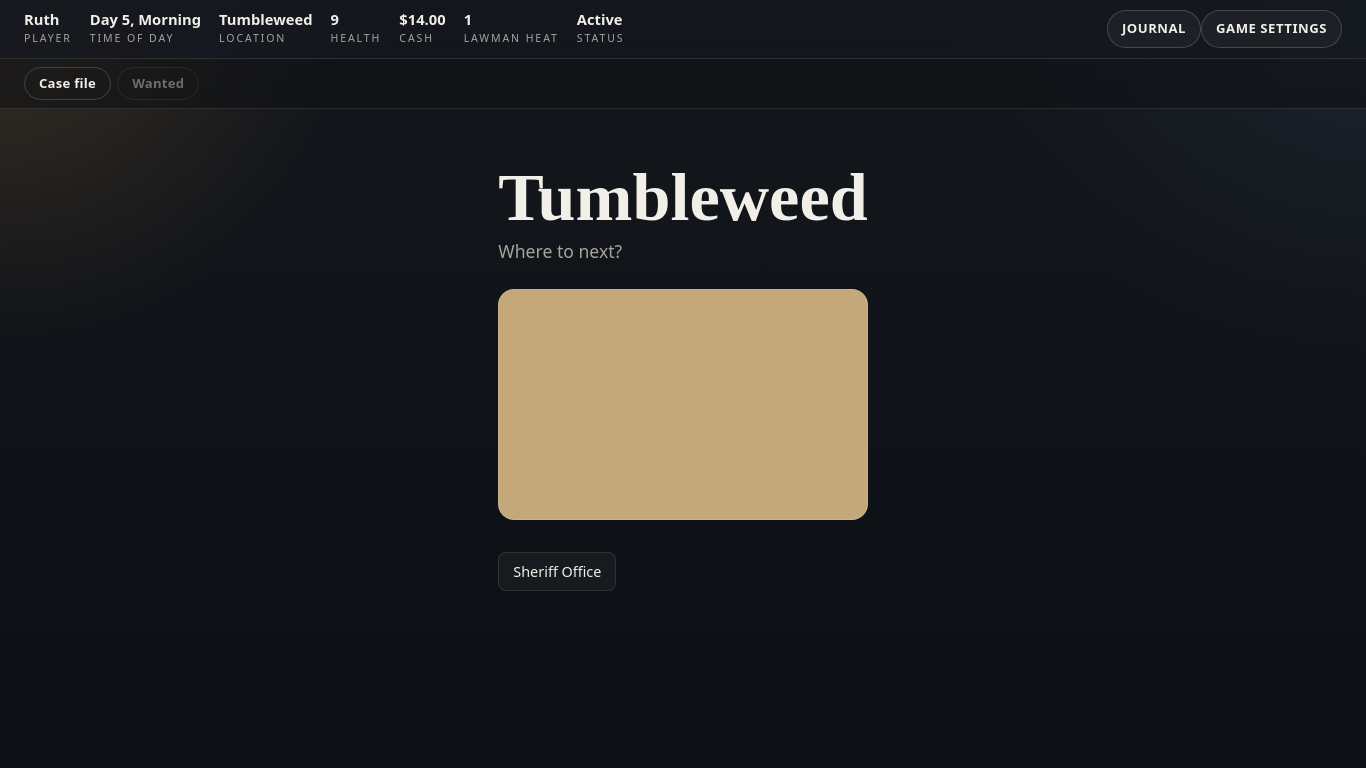
Test: Start Over confirmation › shows the success notice after archiving
This screenshot has width=1366, height=768.
Click the button "Game Settings": click(1272, 29) 1201,10 -> 1342,48
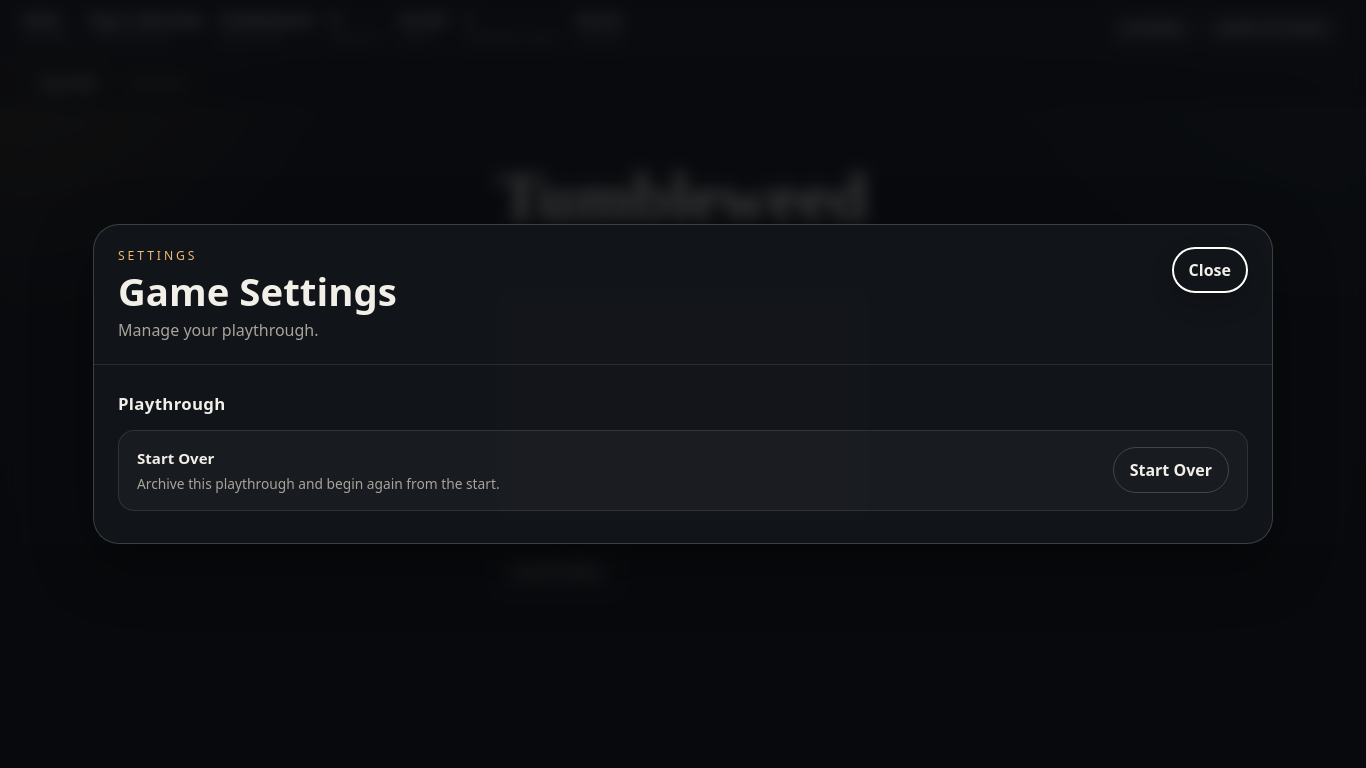
Click the button "Start Over": click(1171, 470) 1113,447 -> 1229,493
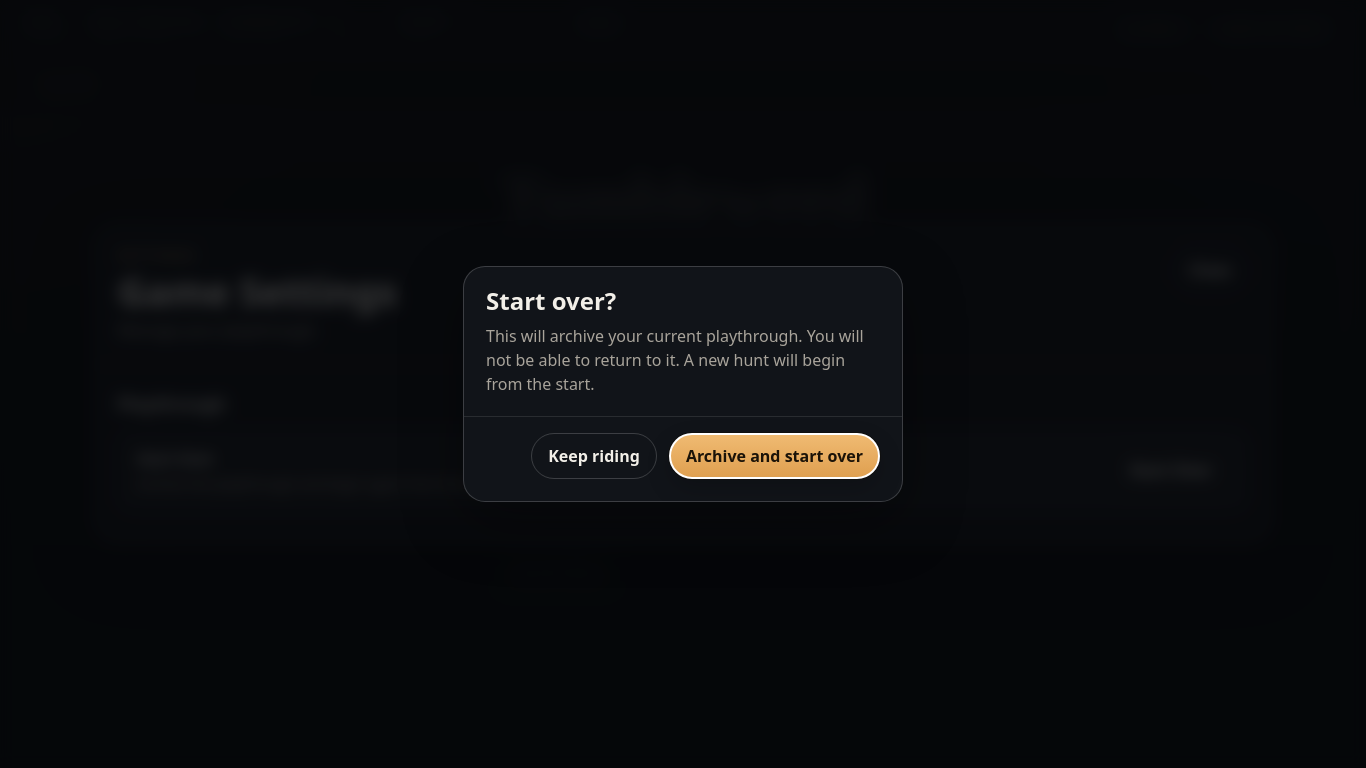
Click the button "Archive and start over": click(774, 456) 669,433 -> 880,479
(page scrolled)
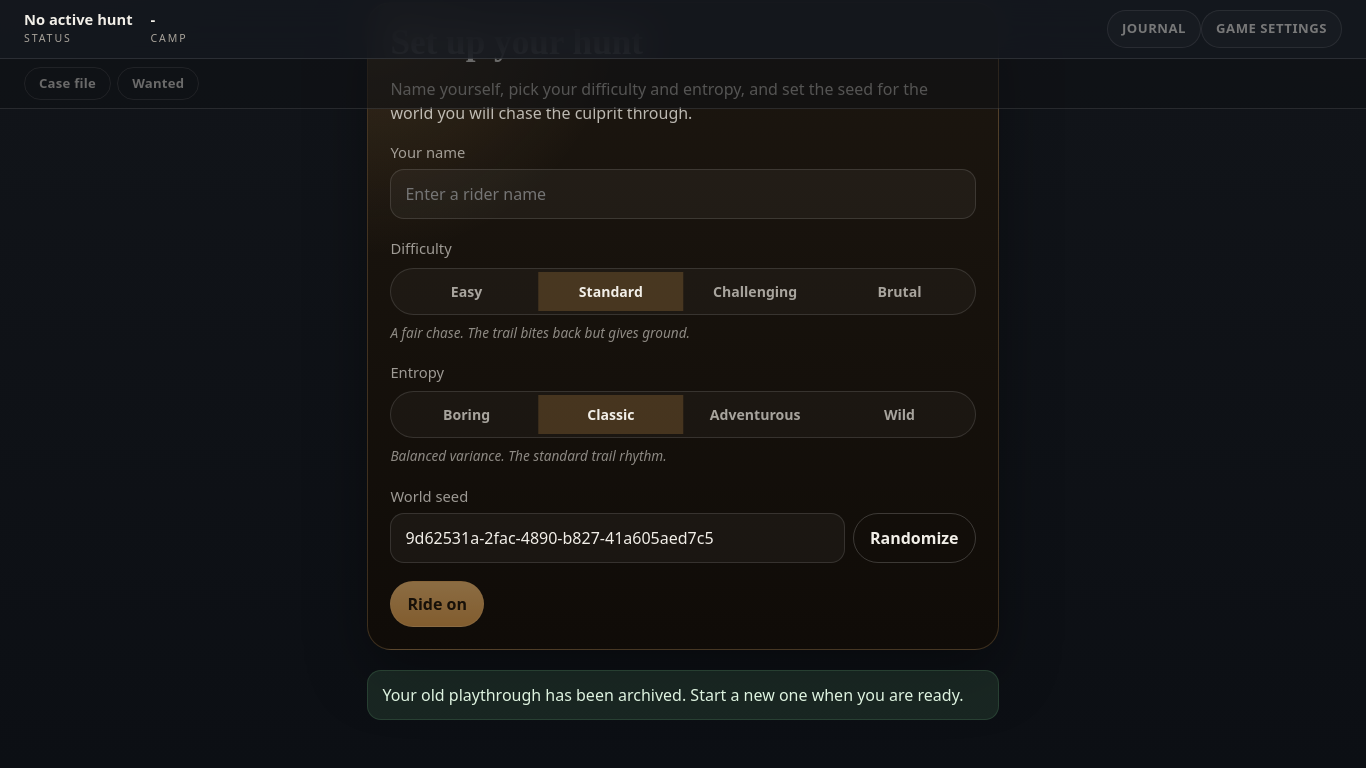
Expected: the text "Your old playthrough has been archived. Start a new one when you are ready." is shown, 367,670 -> 999,720
